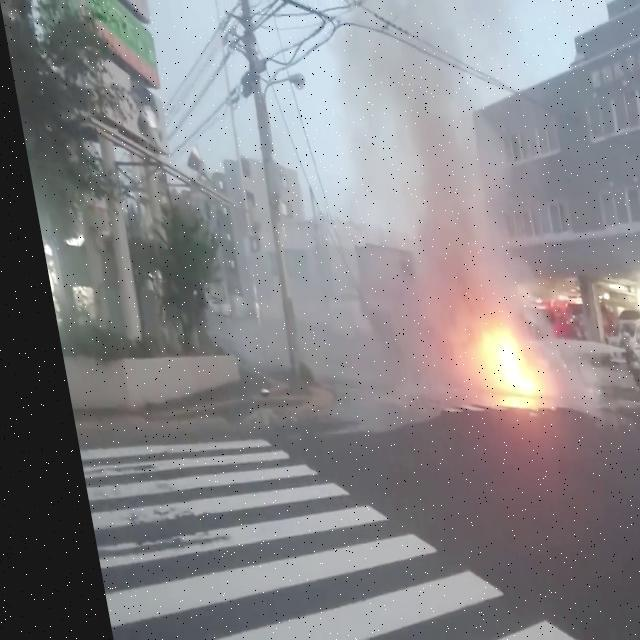Fire: (469, 327, 534, 394)
